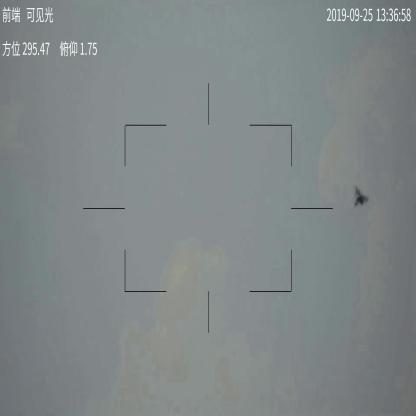uav: (352, 184, 369, 210)
